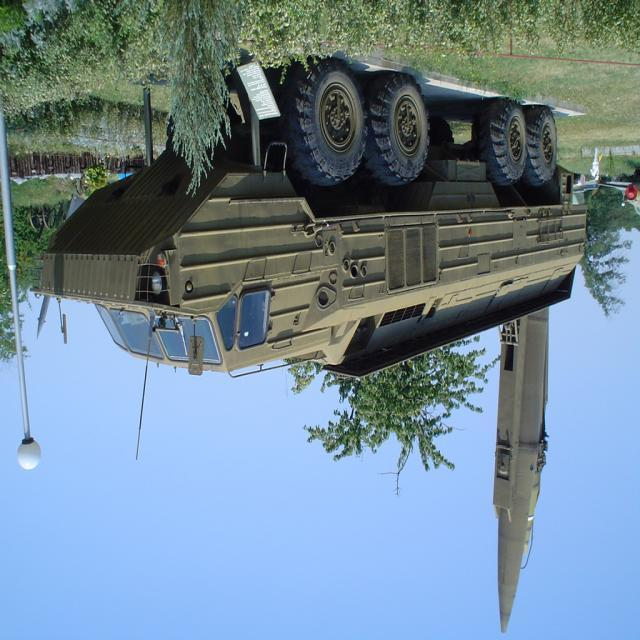Missile: (484, 296, 561, 640)
